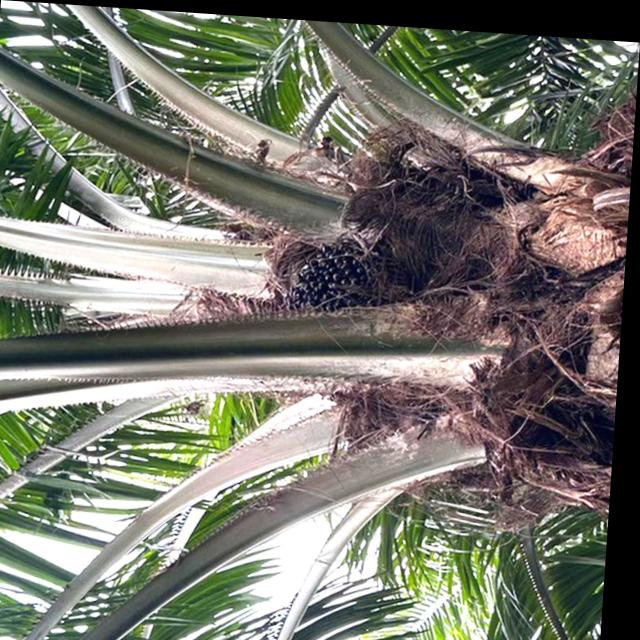unripe: (270, 223, 412, 348)
